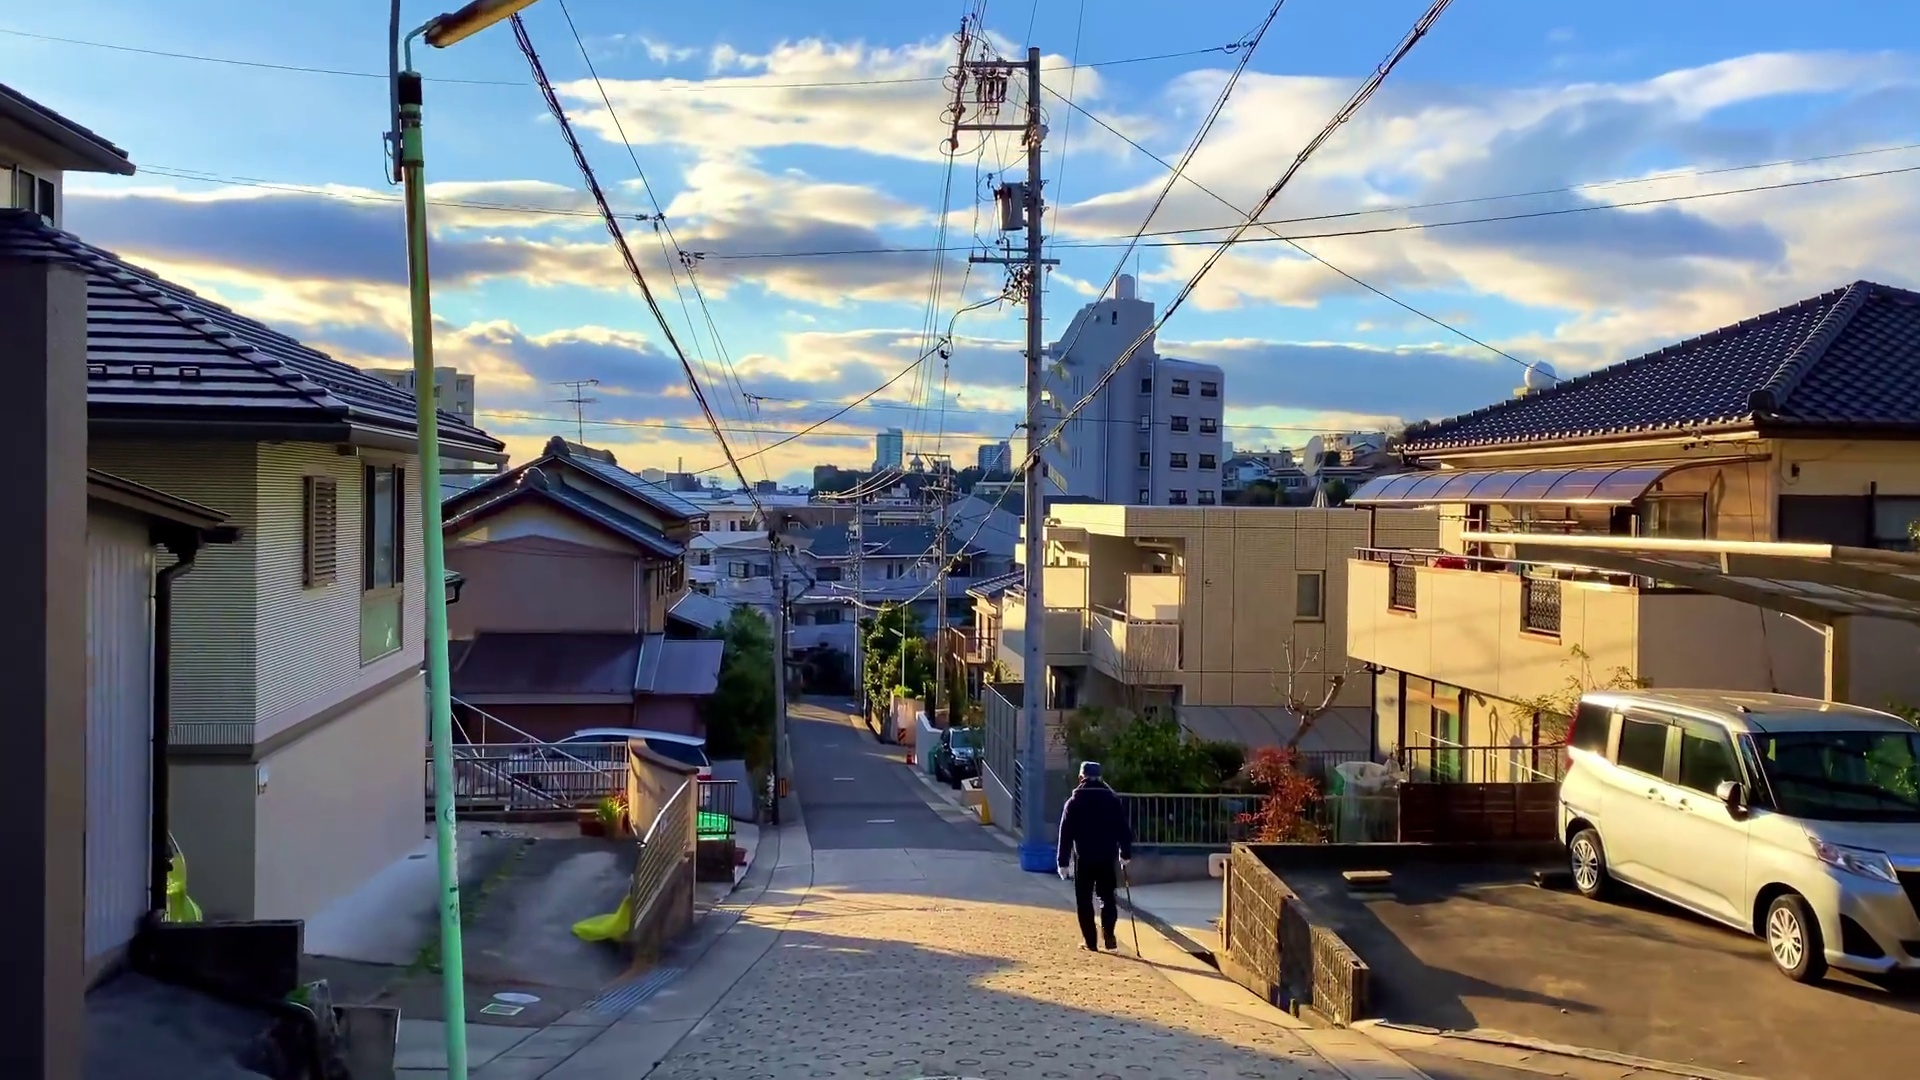person: (1058, 759, 1138, 953)
